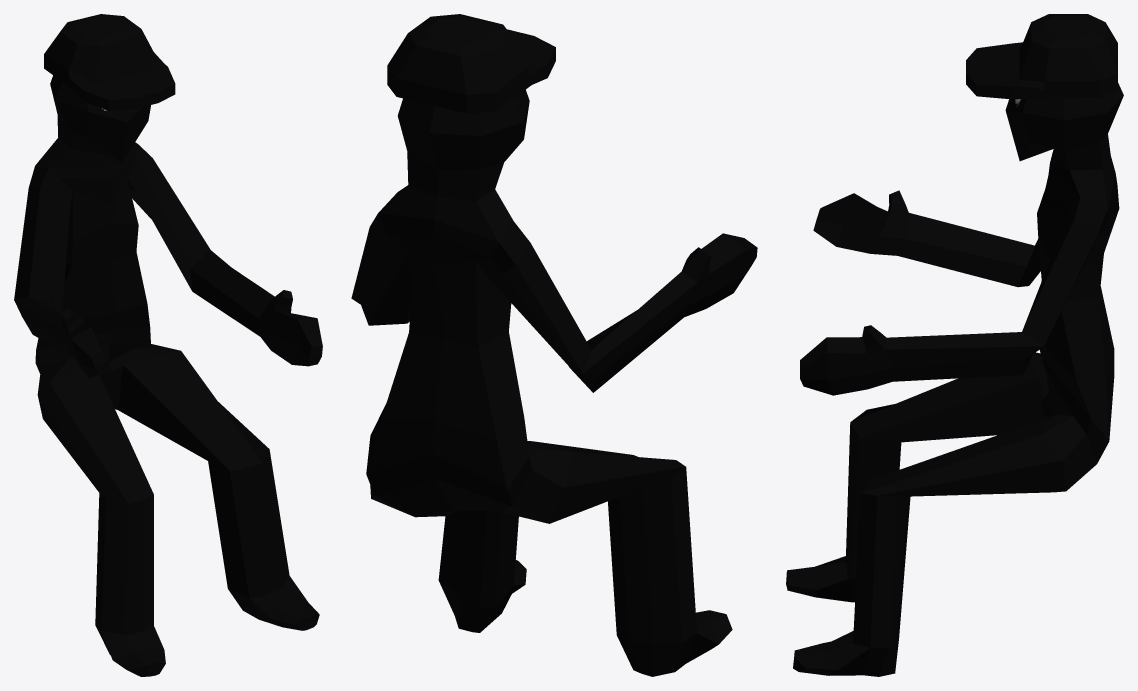
File: busfahrer.fbx
The picture shows the model from 3 angles, left to right: view 1: azimuth 30°, elevation 25°; view 2: azimuth 150°, elevation 25°; view 3: azimuth 270°, elevation 25°; orthographic projection. The views are drawn at different scales.
Visible parts, largest first — view 1: Cube.001, Cube; view 2: Cube.001, Cube; view 3: Cube.001, Cube.
Boxes of the visible parts, left/top/right/bottom form: Cube.001: left=14, top=75, right=322, bottom=676; Cube: left=44, top=14, right=175, bottom=110; Cube.001: left=351, top=89, right=757, bottom=676; Cube: left=387, top=14, right=555, bottom=113; Cube.001: left=786, top=83, right=1123, bottom=676; Cube: left=966, top=14, right=1117, bottom=99.
Size of the model in its own units: 885 by 1963 by 988.
Materials: 2 (1 with a texture image).
